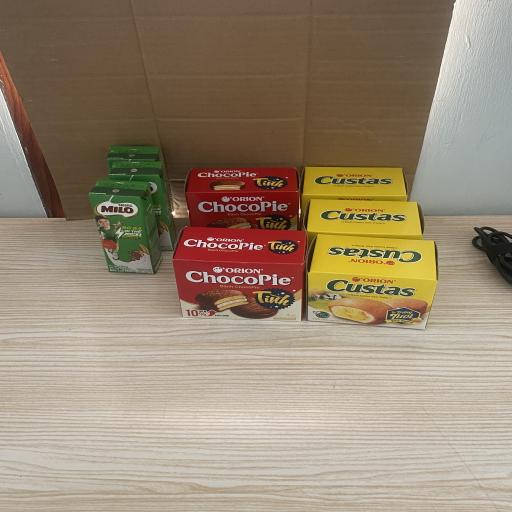chocopie: (172, 226, 308, 322), (184, 167, 300, 230)
custas: (306, 234, 440, 330), (303, 198, 425, 243), (300, 166, 410, 201)
milo: (88, 179, 162, 274), (109, 162, 176, 252), (108, 145, 162, 169)
